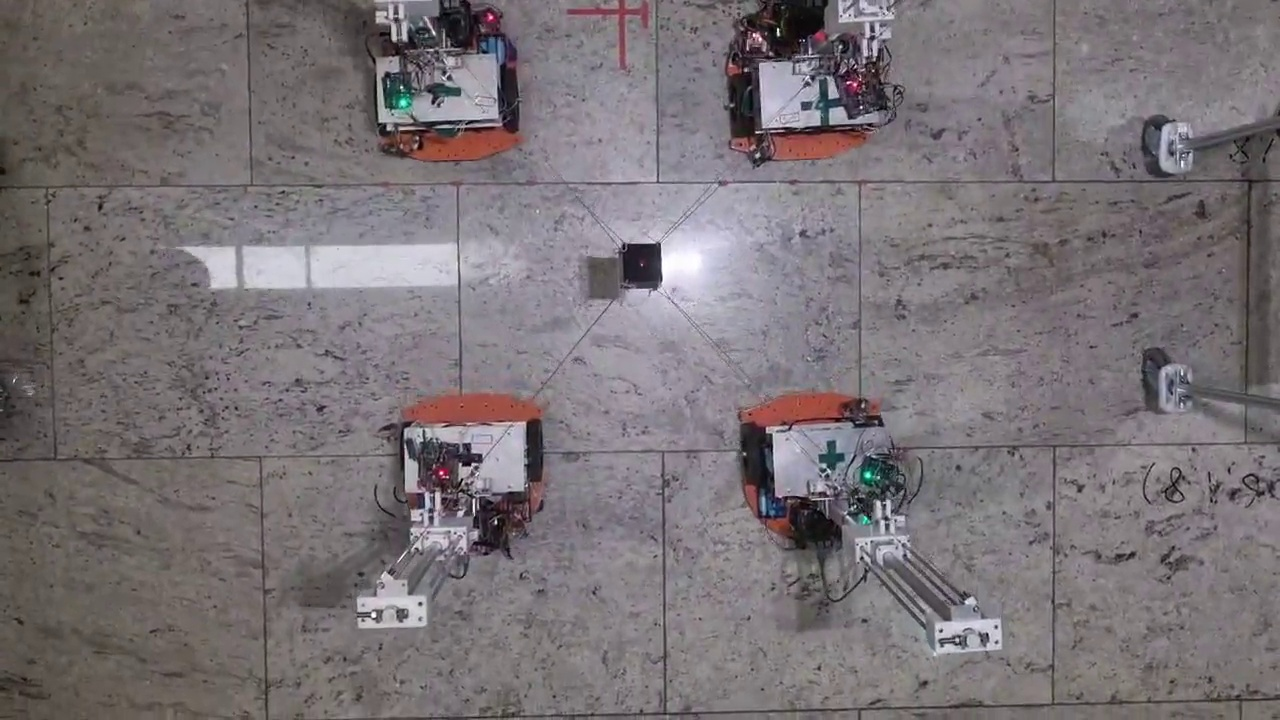e0: (621, 242, 661, 282)
r1: (742, 417, 884, 484)
r2: (728, 67, 871, 134)
r3: (375, 67, 518, 132)
r4: (404, 422, 544, 482)
y_+_axis_vector: (664, 445, 1056, 452)
y_-_axis_vector: (260, 452, 664, 460)
